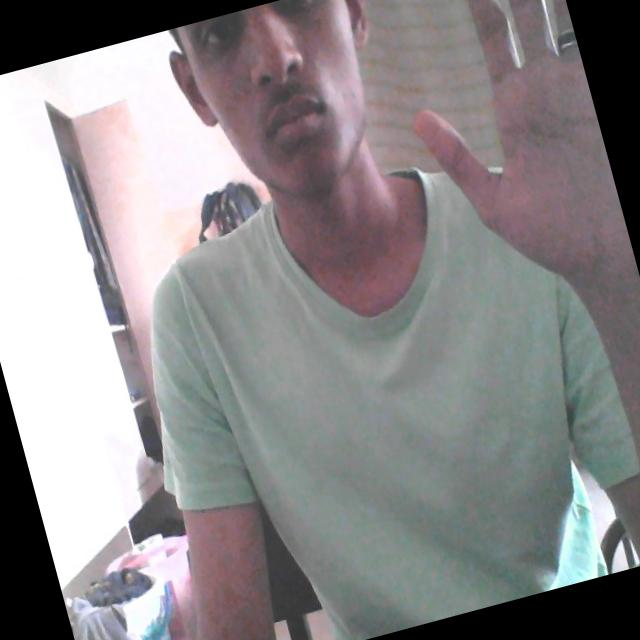Hello: (377, 0, 635, 304)
